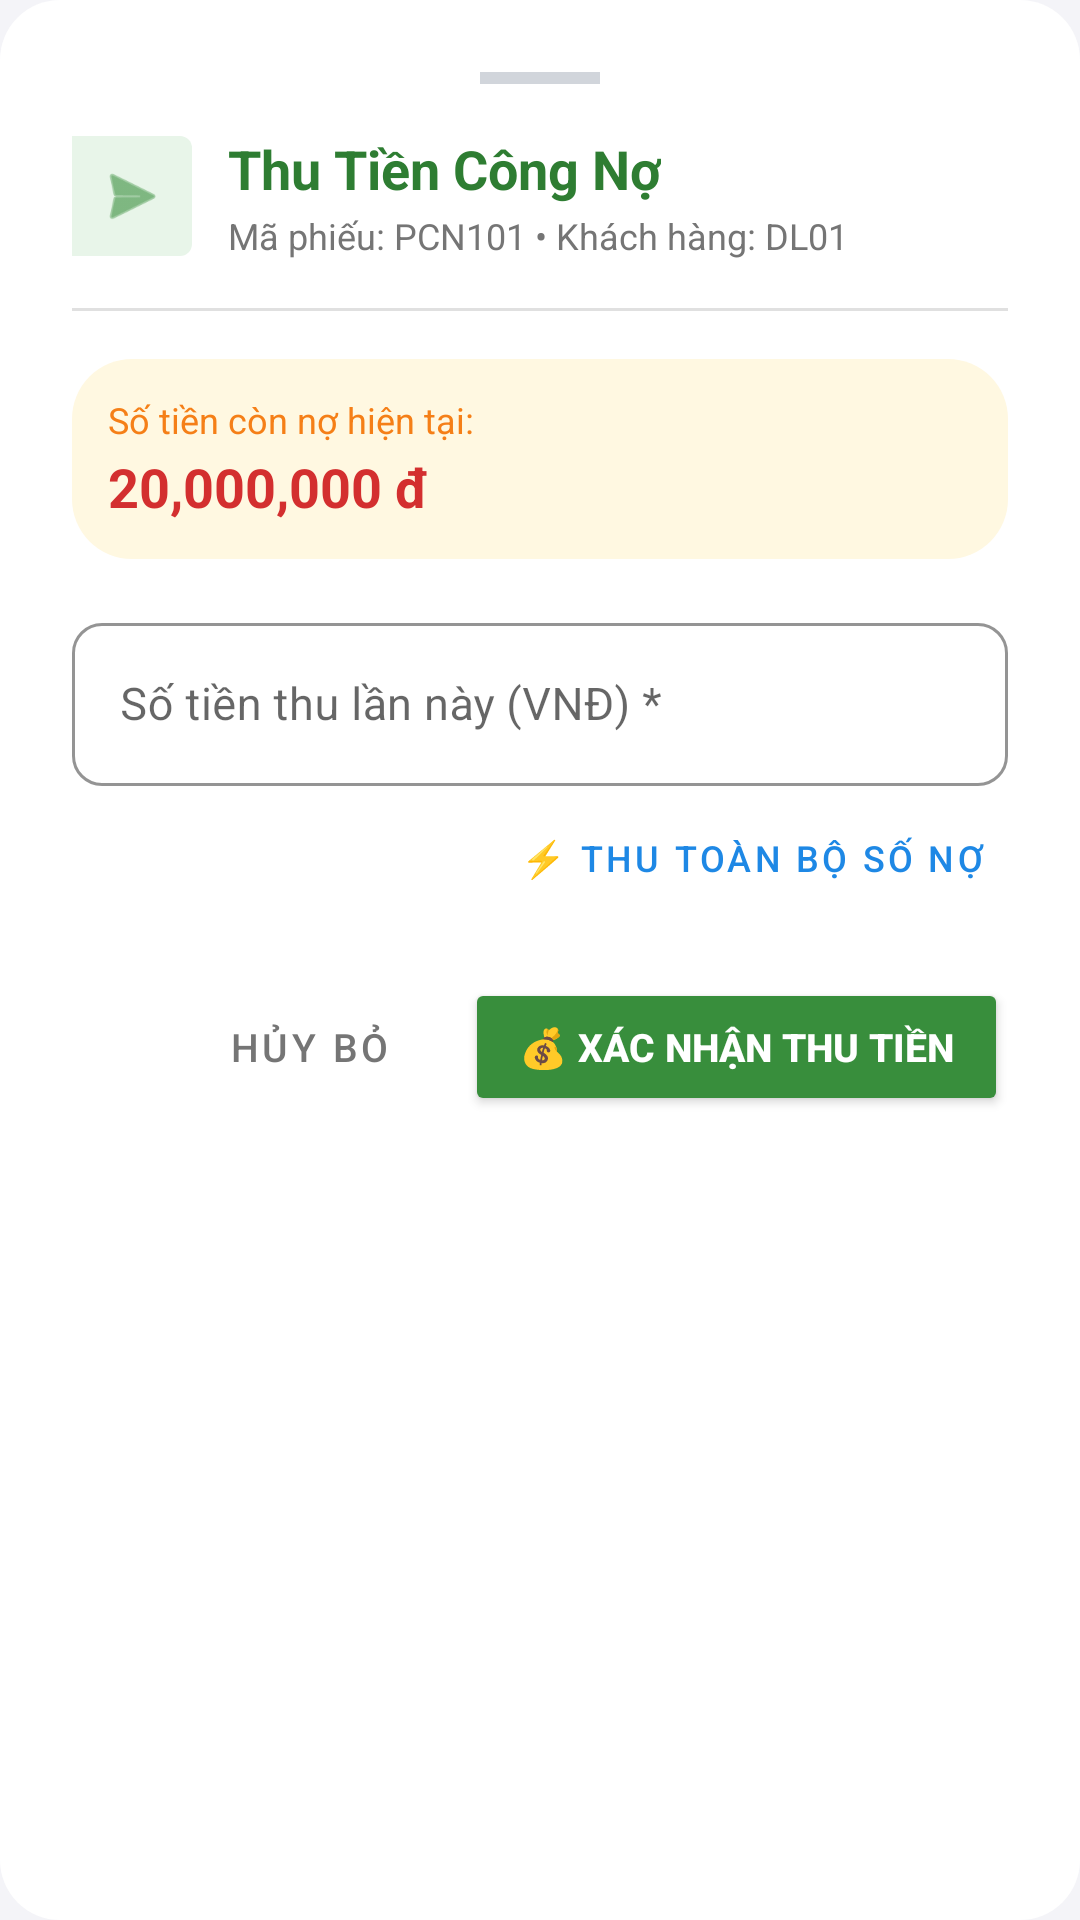

Named icons in this screenshot (1080px x 1920px) and their bounding boxes, (x1, y1, x2, y2):
send: (109, 173, 156, 220)
